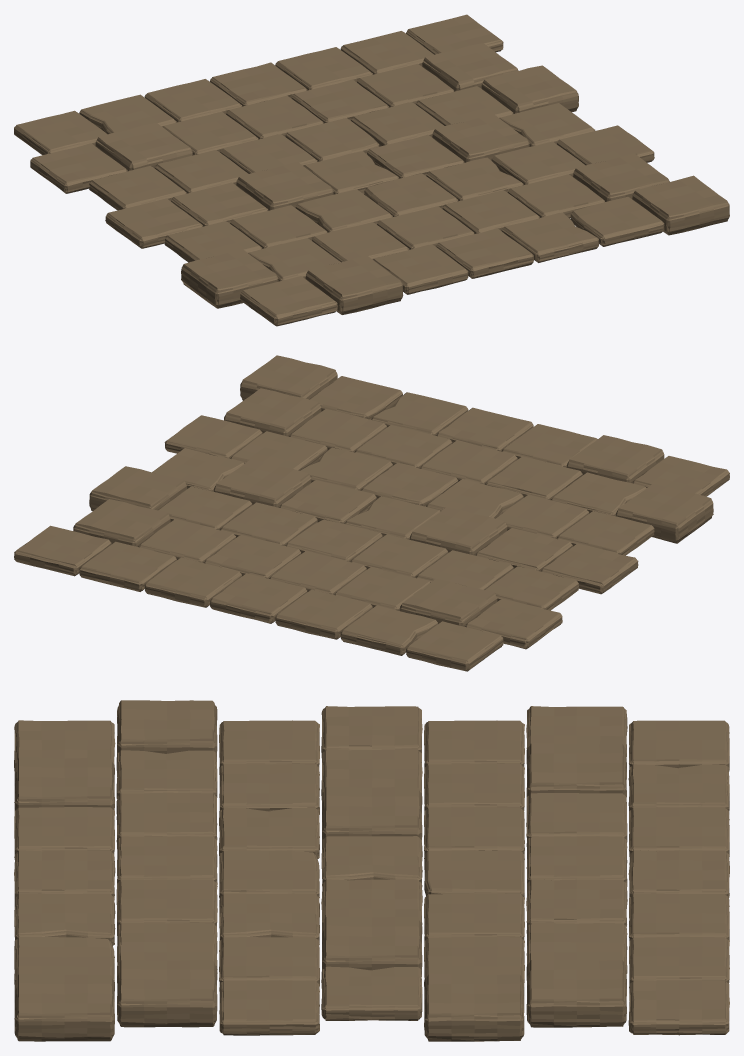
File: GeometryNodeFloor.2024.06.18.fbx
The picture shows the model from 3 angles, top to bottom: view 1: azimuth 30°, elevation 25°; view 2: azimuth 150°, elevation 25°; view 3: azimuth 270°, elevation 25°; orthographic projection. The views are drawn at different scales.
Visible parts, largest first — view 1: Plane.002; view 2: Plane.002; view 3: Plane.002.
Boxes of the visible parts, left/top/right/bottom form: Plane.002: left=14, top=14, right=729, bottom=326; Plane.002: left=14, top=355, right=729, bottom=671; Plane.002: left=14, top=700, right=729, bottom=1041.
Bounding box in the file's own units: 18.47 × 0.8242 × 17.65.
